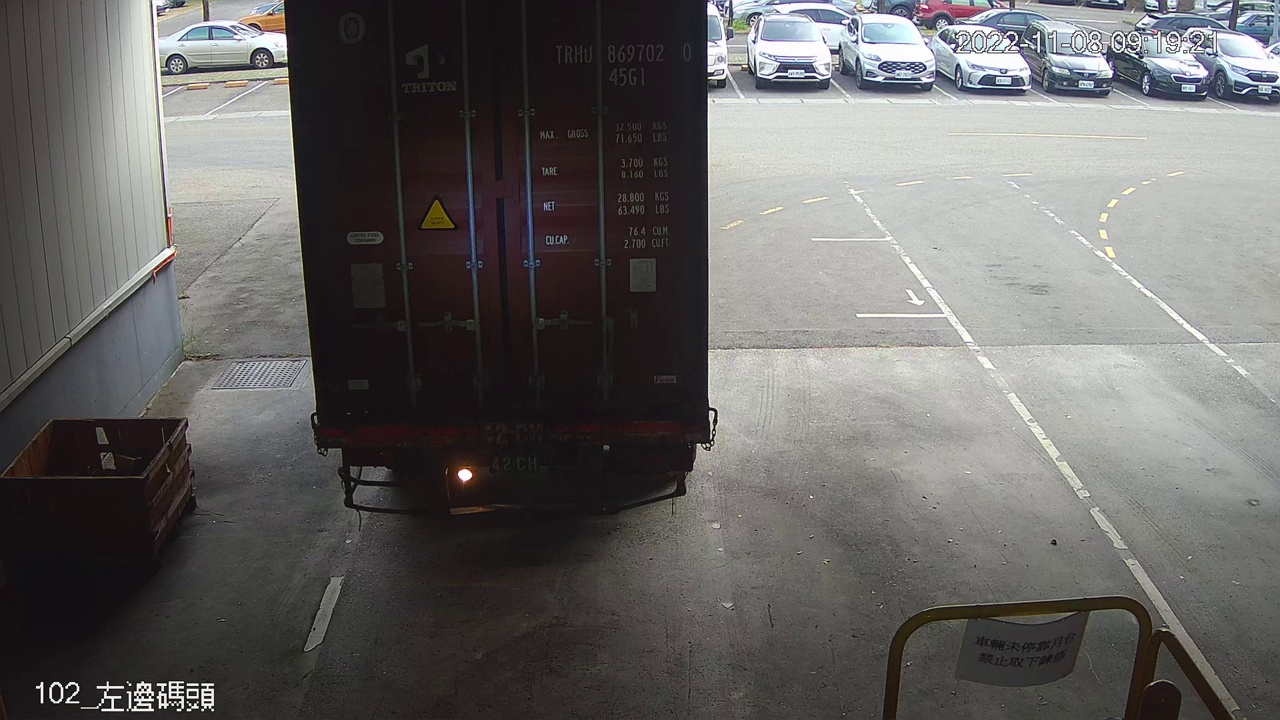container: (549, 33, 697, 93)
